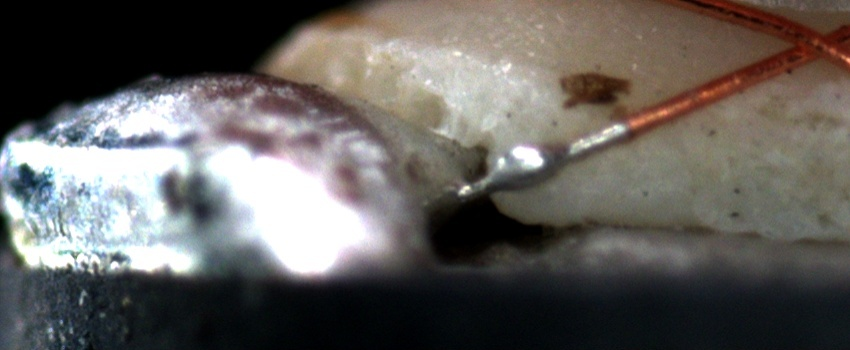CL: (766, 15, 845, 72)
TB: (475, 137, 562, 200)
TS: (467, 120, 628, 198)
TTCW: (447, 94, 678, 203)
